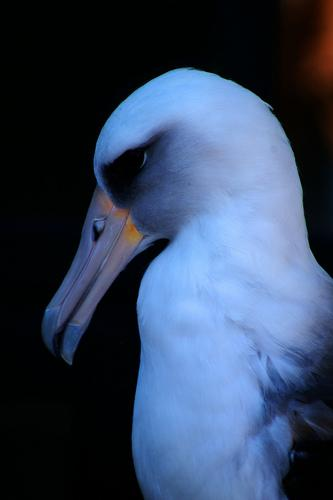002.Laysan_Albatross: (39, 47, 331, 500)
